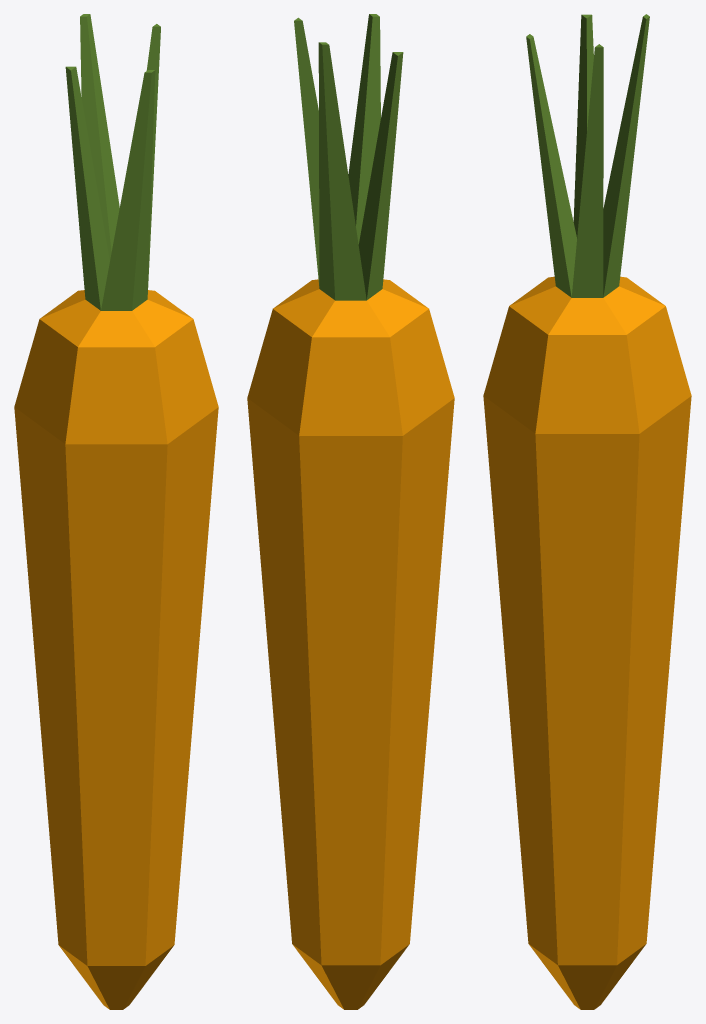
File: carrot.glb
The picture shows the model from 3 angles, left to right: view 1: azimuth 30°, elevation 25°; view 2: azimuth 150°, elevation 25°; view 3: azimuth 270°, elevation 25°; orthographic projection.
Parts seen in each view (by area): view 1: carrot; view 2: carrot; view 3: carrot.
Boxes of the visible parts, box(x1,y1,x2,y2) form: carrot: box(14, 14, 218, 1009); carrot: box(247, 14, 454, 1009); carrot: box(483, 14, 691, 1009).
Size of the model in its own units: 0.3289 by 1.99 by 0.3798.
Materials: 1 (1 with a texture image).
